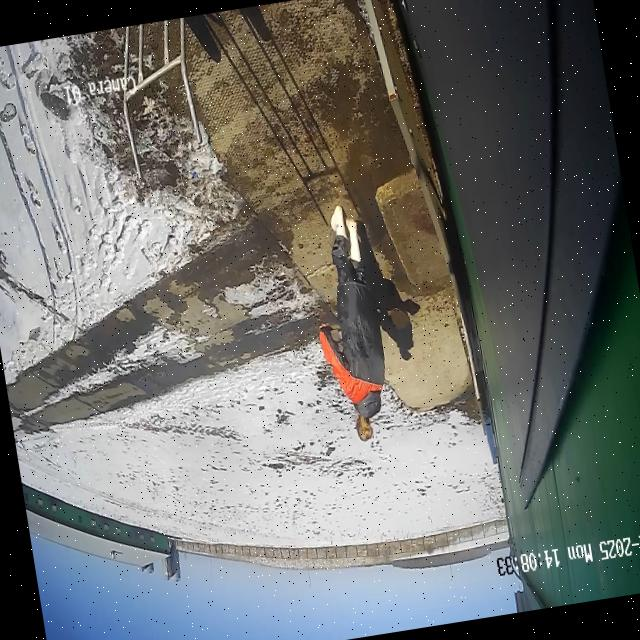Red uniform: (302, 228, 396, 423)
